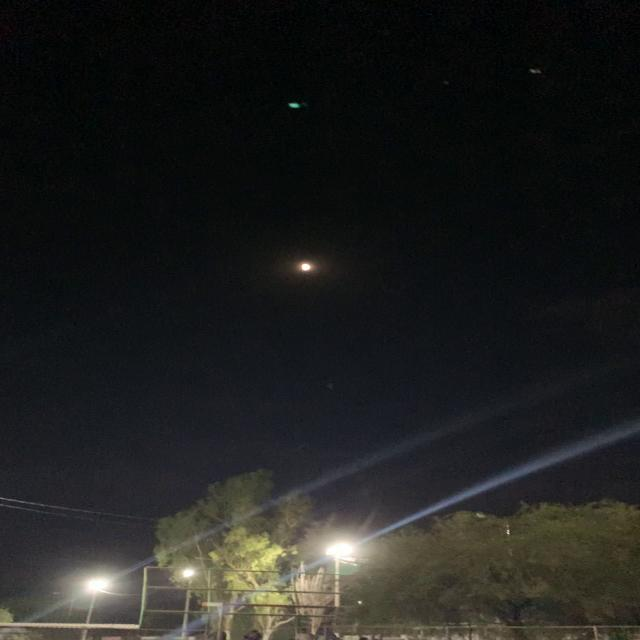moon: (294, 256, 320, 280)
